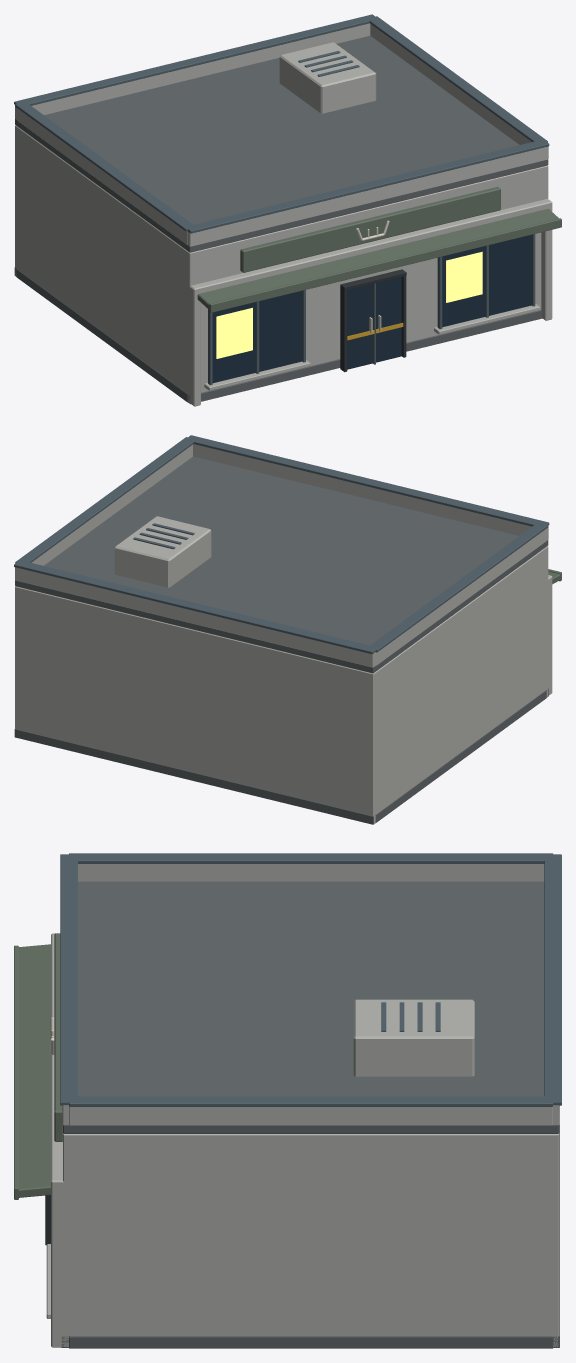
File: environment_building_supermarket_model.glb
3 views of the same model, one above another, from view 1: azimuth 30°, elevation 25°; view 2: azimuth 150°, elevation 25°; view 3: azimuth 270°, elevation 25° (orthographic). The views are drawn at different scales.
Parts seen in each view (by area): view 1: BH_Building_Supermarket_01_RenderMesh, BH_Building_Supermarket_01_LightMesh; view 2: BH_Building_Supermarket_01_RenderMesh; view 3: BH_Building_Supermarket_01_RenderMesh.
Boxes of the visible parts, left/top/right/bottom form: BH_Building_Supermarket_01_RenderMesh: left=14, top=14, right=561, bottom=406; BH_Building_Supermarket_01_LightMesh: left=216, top=251, right=482, bottom=358; BH_Building_Supermarket_01_RenderMesh: left=14, top=435, right=561, bottom=824; BH_Building_Supermarket_01_RenderMesh: left=14, top=853, right=561, bottom=1348.
Size of what is drawn, in the model's own units: 9.79 by 4.83 by 9.05.
